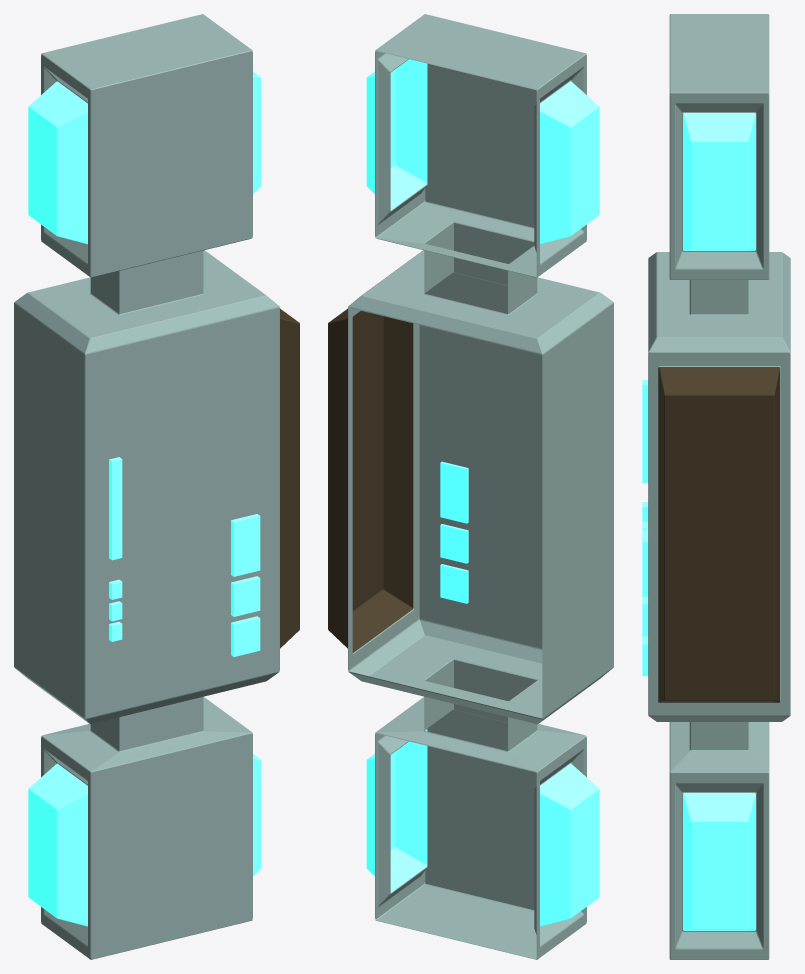
File: Bumper.fbx
3 views of the same model, side by side, from view 1: azimuth 30°, elevation 25°; view 2: azimuth 150°, elevation 25°; view 3: azimuth 270°, elevation 25° (orthographic).
Parts seen in each view (by area): view 1: Paddle_pCube20; view 2: Paddle_pCube20; view 3: Paddle_pCube20.
Part boxes in pixels (x1,y1,x2,y2): Paddle_pCube20: (14, 14, 299, 959); Paddle_pCube20: (328, 14, 613, 959); Paddle_pCube20: (642, 14, 790, 959).
Size of the model in its own units: 61.46 by 222 by 34.41.
